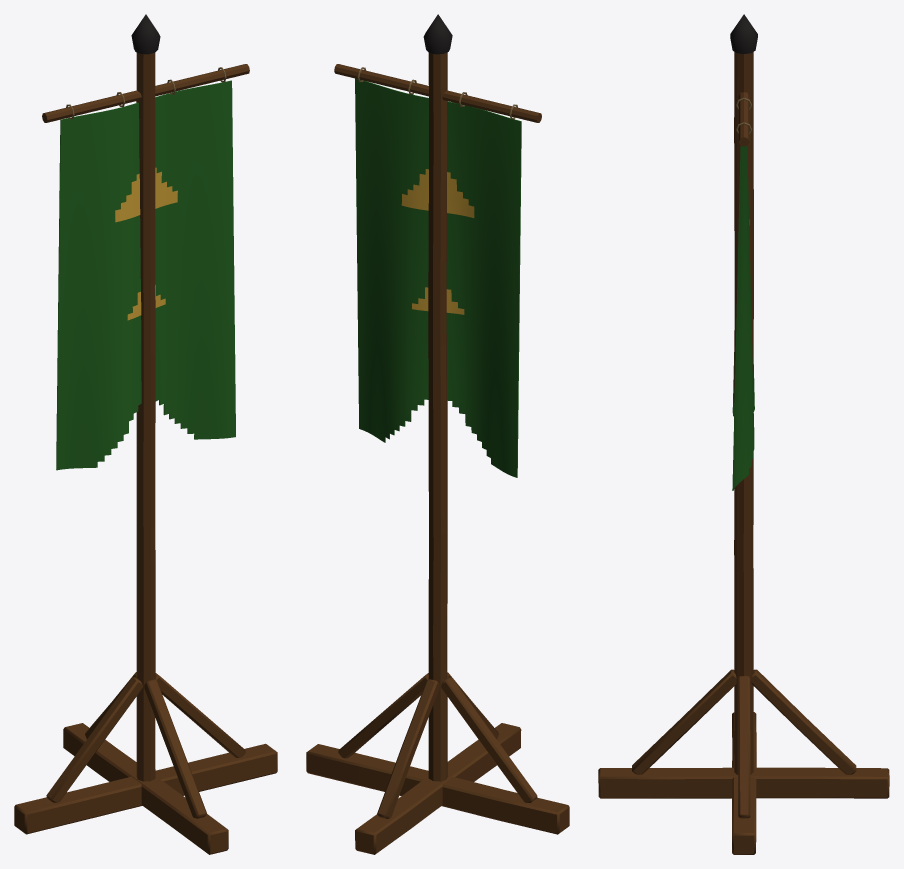
File: banner_gruen.glb
The picture shows the model from 3 angles, left to right: view 1: azimuth 30°, elevation 25°; view 2: azimuth 150°, elevation 25°; view 3: azimuth 270°, elevation 25°; orthographic projection.
Visible parts, largest first — view 1: banner_gruen; view 2: banner_gruen; view 3: banner_gruen.
Part boxes in pixels (x1=…): banner_gruen: x1=14, y1=14, x2=277, y2=854; banner_gruen: x1=306, y1=14, x2=569, y2=854; banner_gruen: x1=598, y1=14, x2=889, y2=854.
Size of the model in its own units: 1.2 by 3.56 by 1.2.
